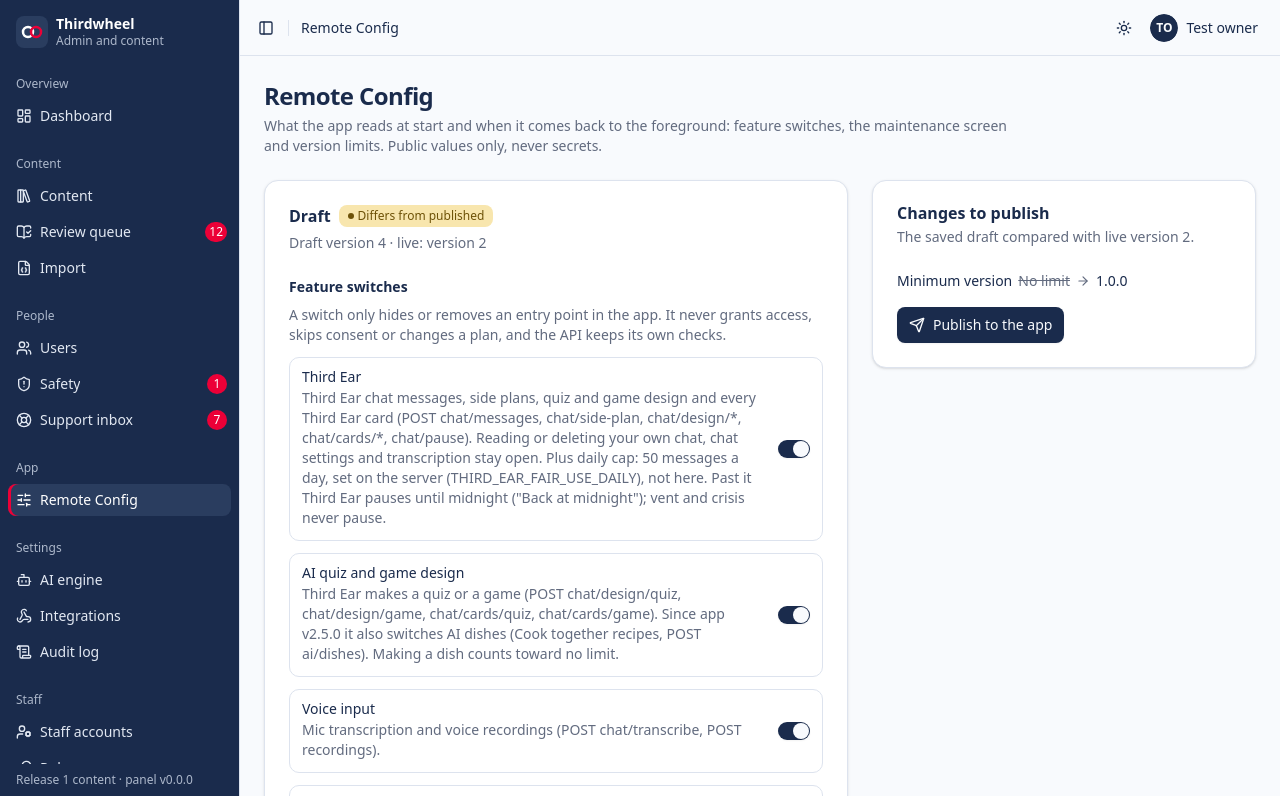
it: Remote Config page (mock API, reconciled with v2.0.0) › CONFIG_CONFLICT on publish (a rollback replaced the draft meanwhile) reloads the latest
Expected: the text "Draft version 4 · live: version 2" is shown, [289, 233, 486, 252]
Step 1. Click the button "Publish to the app" → point(981, 325), box [897, 307, 1064, 343]
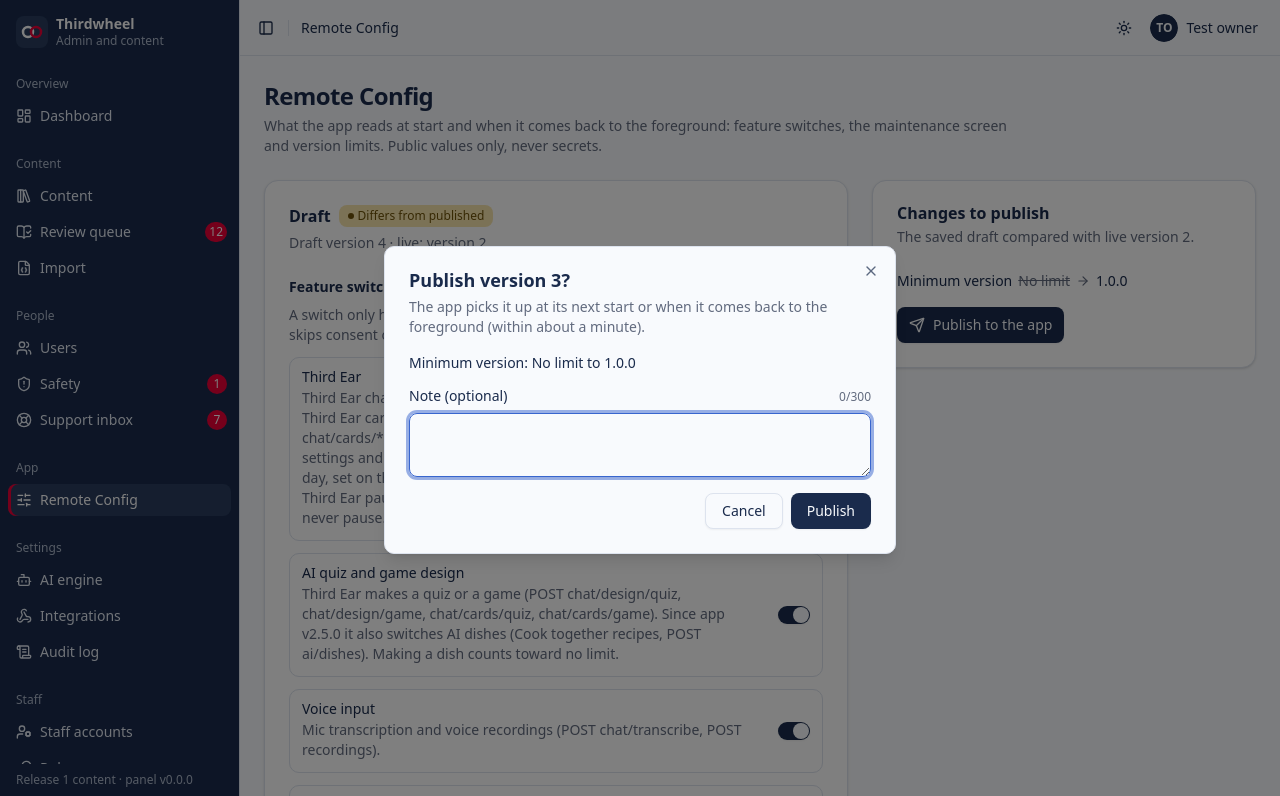
Step 2. Click the button "Publish" → point(831, 511), box [791, 493, 871, 529]
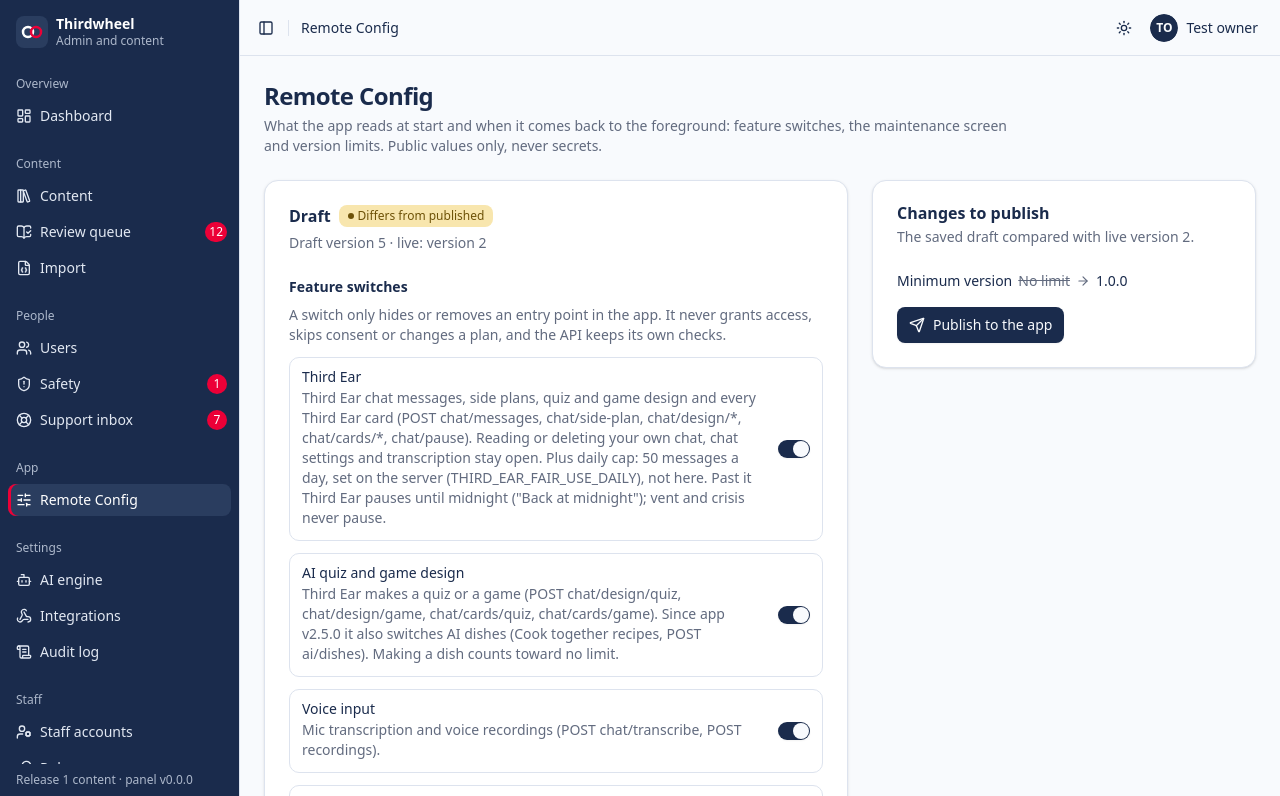
Now the text "Draft version 5 · live: version 2" is shown, box [289, 233, 486, 252]
